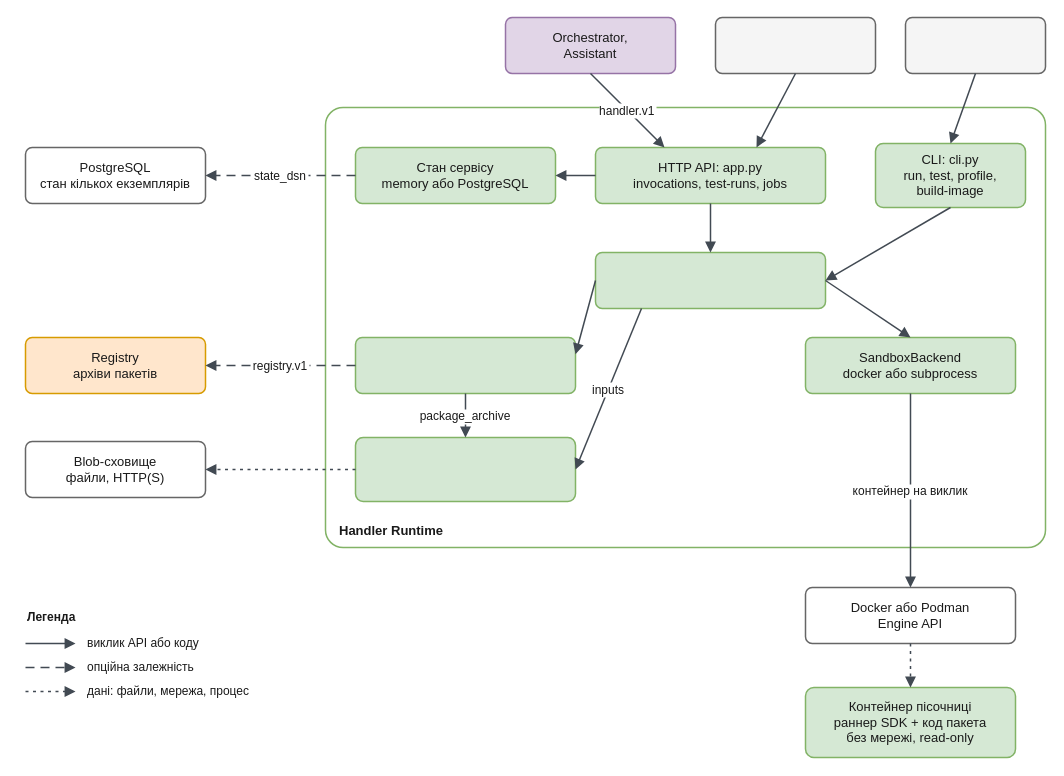
Image size: 1064x776. Some labels were removed from this diagram. Each missing label, with the centre of its shape:
"ContentFetcher file:// у blob_roots, download_url з allowlist" belongs at point 465,469.
"Executor: executor.py перевірки, ліміти, результат" belongs at point 710,280.
"PackageStore кеш пакетів за дайджестом" belongs at point 465,365.
"Автор пакета" belongs at point 975,45.
"Сторонній застосунок" belongs at point 795,45.
